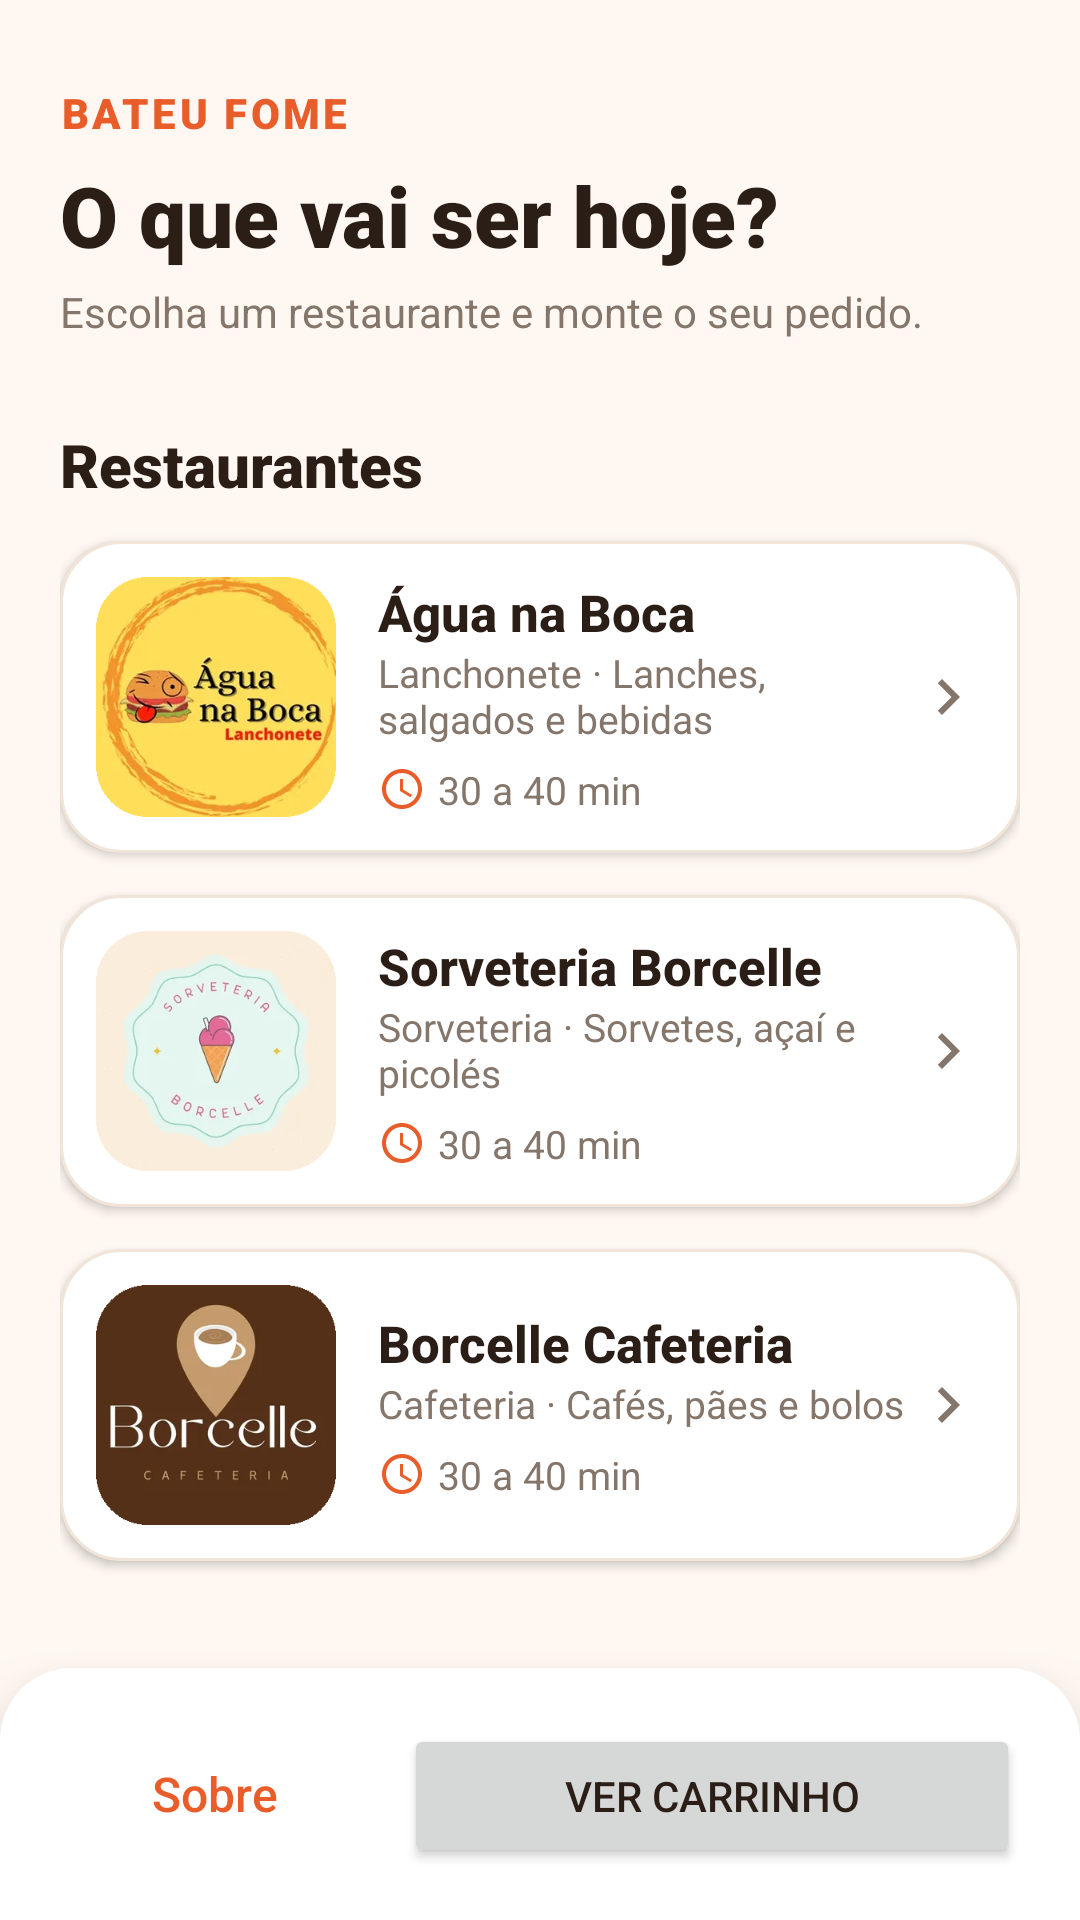

Icon click points for this 1080×1920 phone screenshot, format point (x, y):
seta: point (949, 697), point (949, 1051), point (949, 1405)
